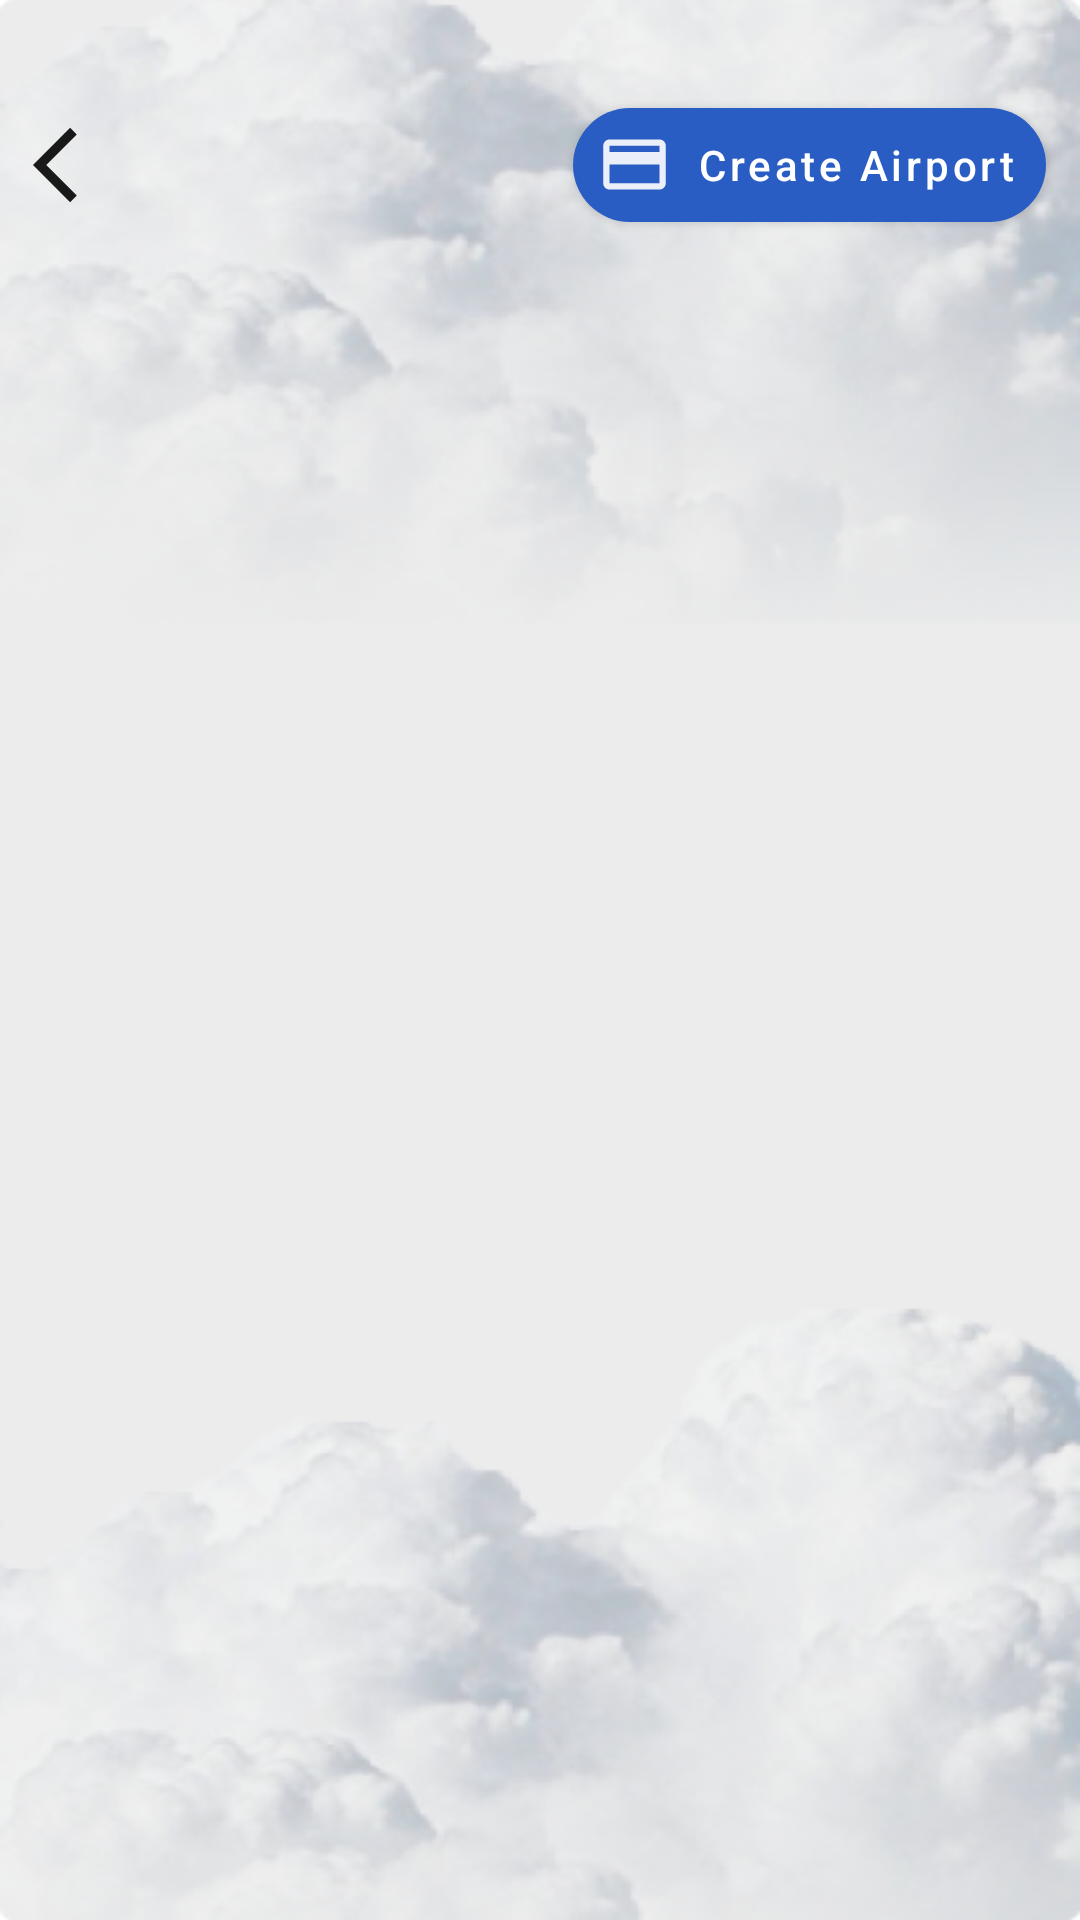

Icon click points for this 1080x1920 phone screenshot, format (x=x, y=y):
arrow back: (x=55, y=165)
